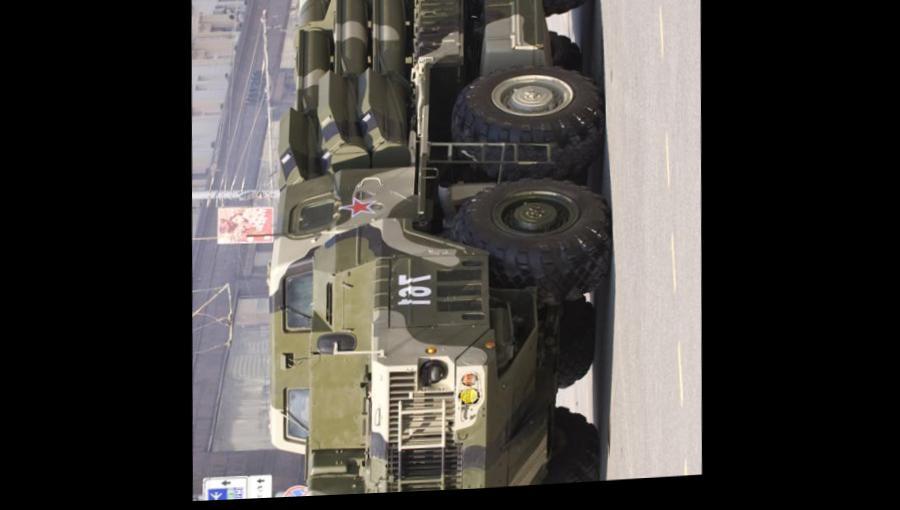rszo: (255, 0, 625, 498)
